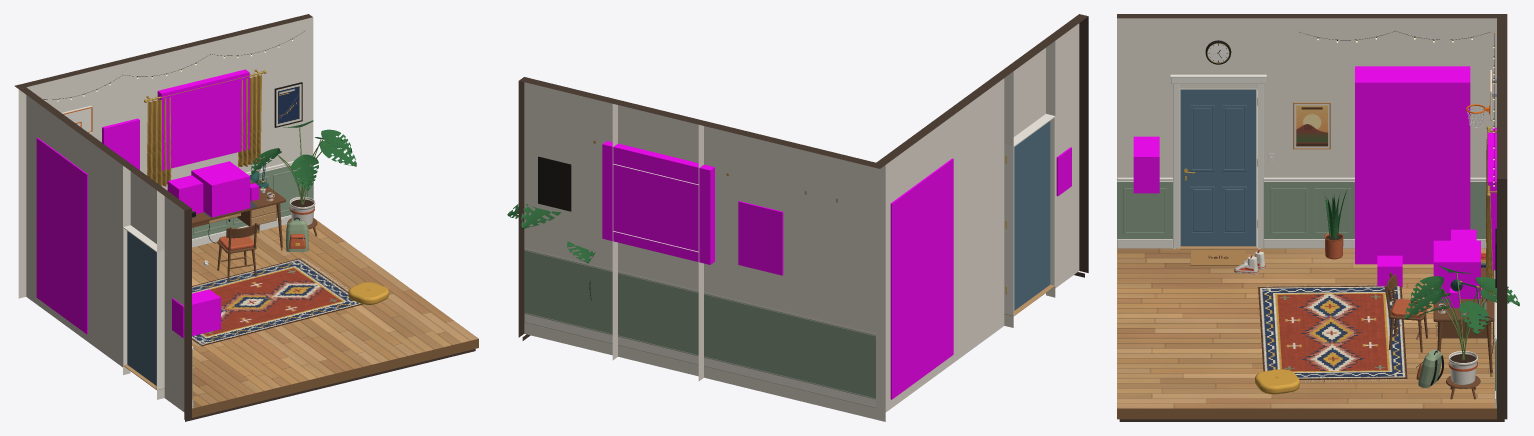
File: room.b8a15d6bc9.glb
3 views of the same model, side by side, from view 1: azimuth 30°, elevation 25°; view 2: azimuth 150°, elevation 25°; view 3: azimuth 270°, elevation 25° (orthographic). The views are drawn at different scales.
Parts seen in each view (by area): view 1: decor__floor, decor__wall_back__01, decor__wall_left__01, hit__shelf, decor__rug__02, hit__window, decor__door__03, decor__curtains__02, decor__wall_left__02, decor__floor_edge__01, hit__computer, decor__door__04 (+15 smaller); view 2: decor__wall_back__01, decor__wall_left__01, decor__wainscot__02, hit__shelf, hit__window, decor__door__03, decor__wainscot__01, decor__wall_left__02, decor__wall_back__02, decor__door__04, hit__letter, decor__posters__01 (+2 smaller); view 3: decor__floor, decor__wall_left__01, hit__shelf, decor__rug__02, decor__door__03, decor__wainscot__02, decor__floor_edge__01, decor__wall_back__02, decor__door__04, decor__plants__02, hit__computer, decor__wainscot__01 (+17 smaller).
Boxes of the visible parts, box(x1,y1,x2,y2) form: decor__floor: box(192, 218, 478, 408); decor__wall_back__01: box(18, 17, 313, 298); decor__wall_left__01: box(26, 95, 184, 411); hit__shelf: box(36, 137, 87, 334); decor__rug__02: box(192, 258, 362, 346); hit__window: box(157, 69, 249, 170); decor__door__03: box(127, 231, 156, 385); decor__curtains__02: box(146, 74, 261, 186); decor__wall_left__02: box(19, 87, 191, 419); decor__floor_edge__01: box(192, 338, 478, 417); hit__computer: box(191, 161, 250, 217); decor__door__04: box(123, 225, 164, 389); decor__wall_back__01: box(524, 82, 885, 421); decor__wall_left__01: box(885, 23, 1079, 412); decor__wainscot__02: box(524, 249, 875, 407); hit__shelf: box(890, 158, 953, 399); hit__window: box(602, 141, 714, 264); decor__door__03: box(1014, 121, 1050, 310); decor__wainscot__01: box(524, 248, 875, 407); decor__wall_left__02: box(876, 14, 1088, 272); decor__wall_back__02: box(518, 77, 884, 337); decor__door__04: box(1004, 114, 1055, 316); hit__letter: box(738, 201, 783, 275); decor__posters__01: box(538, 156, 571, 211); decor__floor: box(1117, 248, 1495, 408); decor__wall_left__01: box(1117, 18, 1496, 178); hit__shelf: box(1355, 66, 1470, 264); decor__rug__02: box(1258, 285, 1407, 379); decor__door__03: box(1180, 89, 1255, 246); decor__wainscot__02: box(1117, 182, 1496, 408); decor__floor_edge__01: box(1117, 408, 1496, 419); decor__wall_back__02: box(1497, 14, 1507, 419); decor__door__04: box(1170, 74, 1266, 248); decor__plants__02: box(1325, 183, 1519, 334); hit__computer: box(1433, 240, 1480, 298); decor__wainscot__01: box(1117, 177, 1496, 408).
Size of the model in its own units: 4.98 by 3.19 by 4.77.
76 materials, 6 textured.
